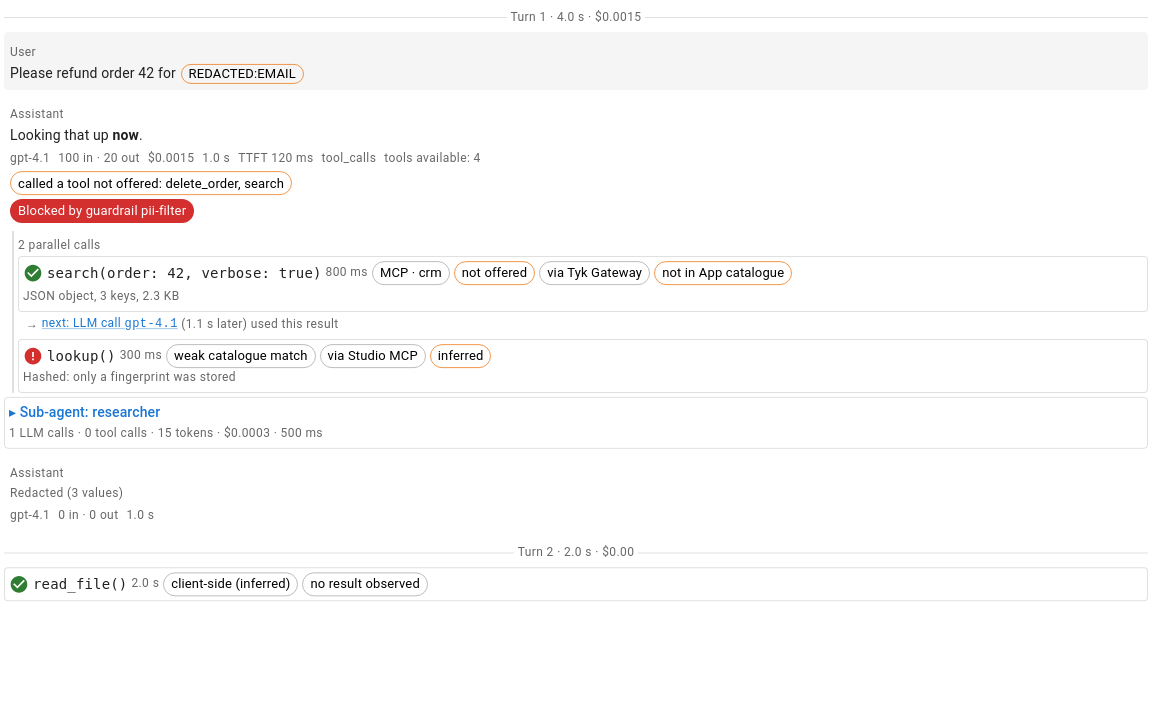
Test case: TranscriptView › explains a weak catalogue match with its rule and candidates
Hover over the element with test id "weak-match-badge" at (241, 356), box [166, 344, 316, 368]
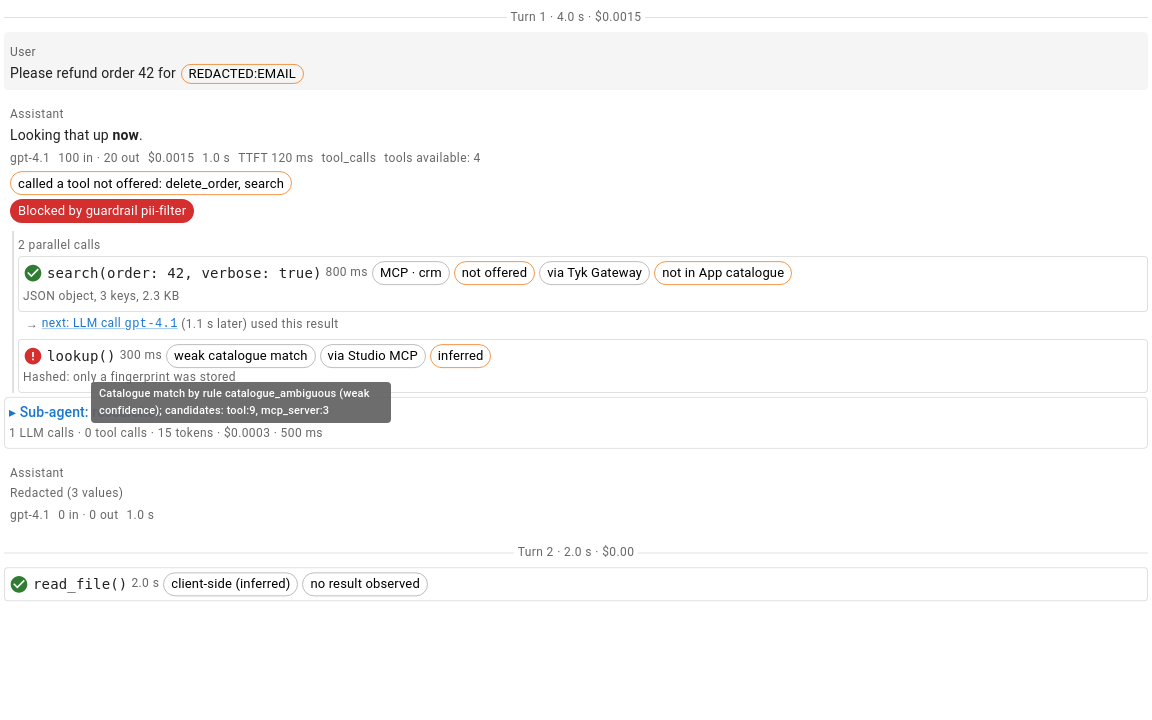
Now the tooltip shows "Catalogue match by rule catalogue_ambiguous (weak confidence); candidates: tool:9, mcp_server:3", box [99, 387, 370, 416]
Hover over the element with test id "inferred-badge" at (461, 356), box [430, 344, 492, 368]
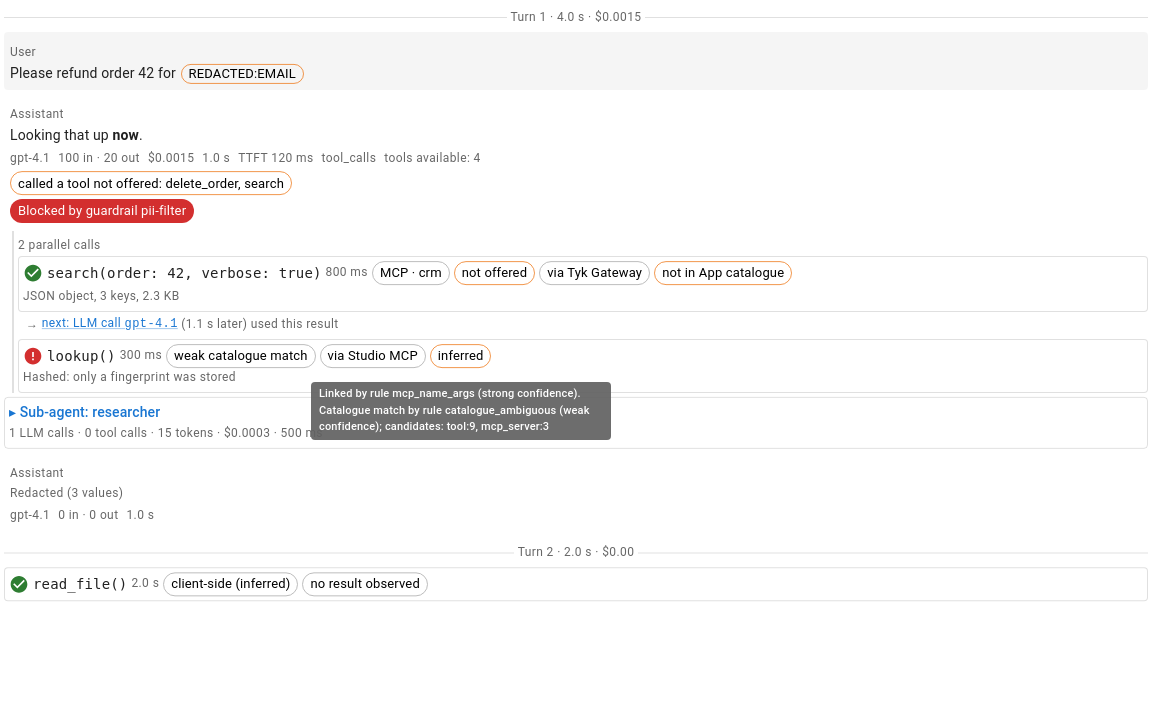
Now the tooltip shows "candidates: tool:9, mcp_server:3", box [319, 387, 590, 433]
